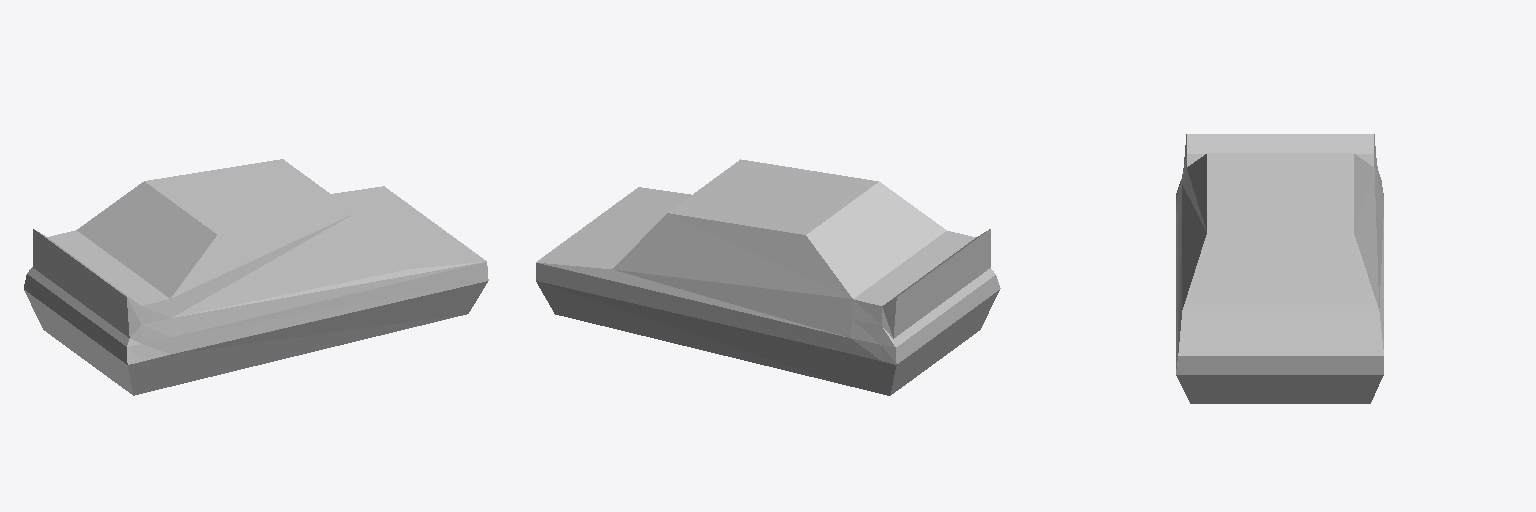
The model's file is car_sedan.obj.
3 views of the same model, side by side, from view 1: azimuth 30°, elevation 25°; view 2: azimuth 150°, elevation 25°; view 3: azimuth 270°, elevation 25° (orthographic).
Parts seen in each view (by area): view 1: Cube.001; view 2: Cube.001; view 3: Cube.001.
Part boxes in pixels (bbox=[...]): Cube.001: bbox=[24, 159, 488, 395]; Cube.001: bbox=[536, 159, 1000, 395]; Cube.001: bbox=[1176, 134, 1383, 403].
Bounding box in the file's own units: 4 × 1.4 × 2.